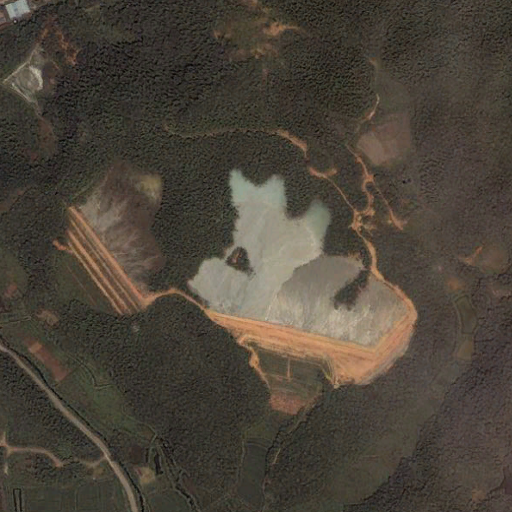tp: (182, 167, 418, 413), (52, 166, 172, 315)
